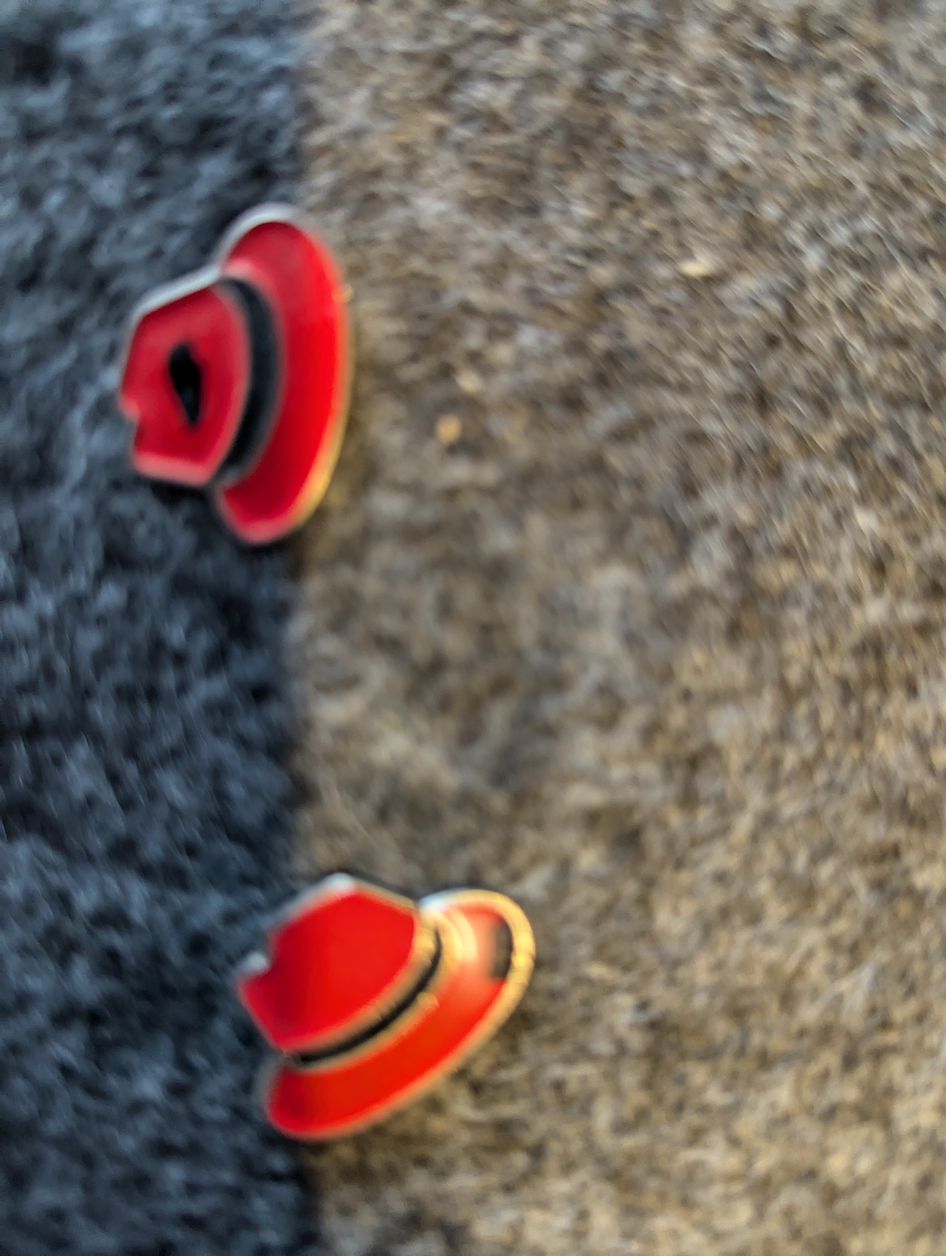Red-Hat: (94, 164, 384, 599), (203, 845, 586, 1161)
Scratch: (158, 333, 227, 445), (482, 909, 536, 1001)
